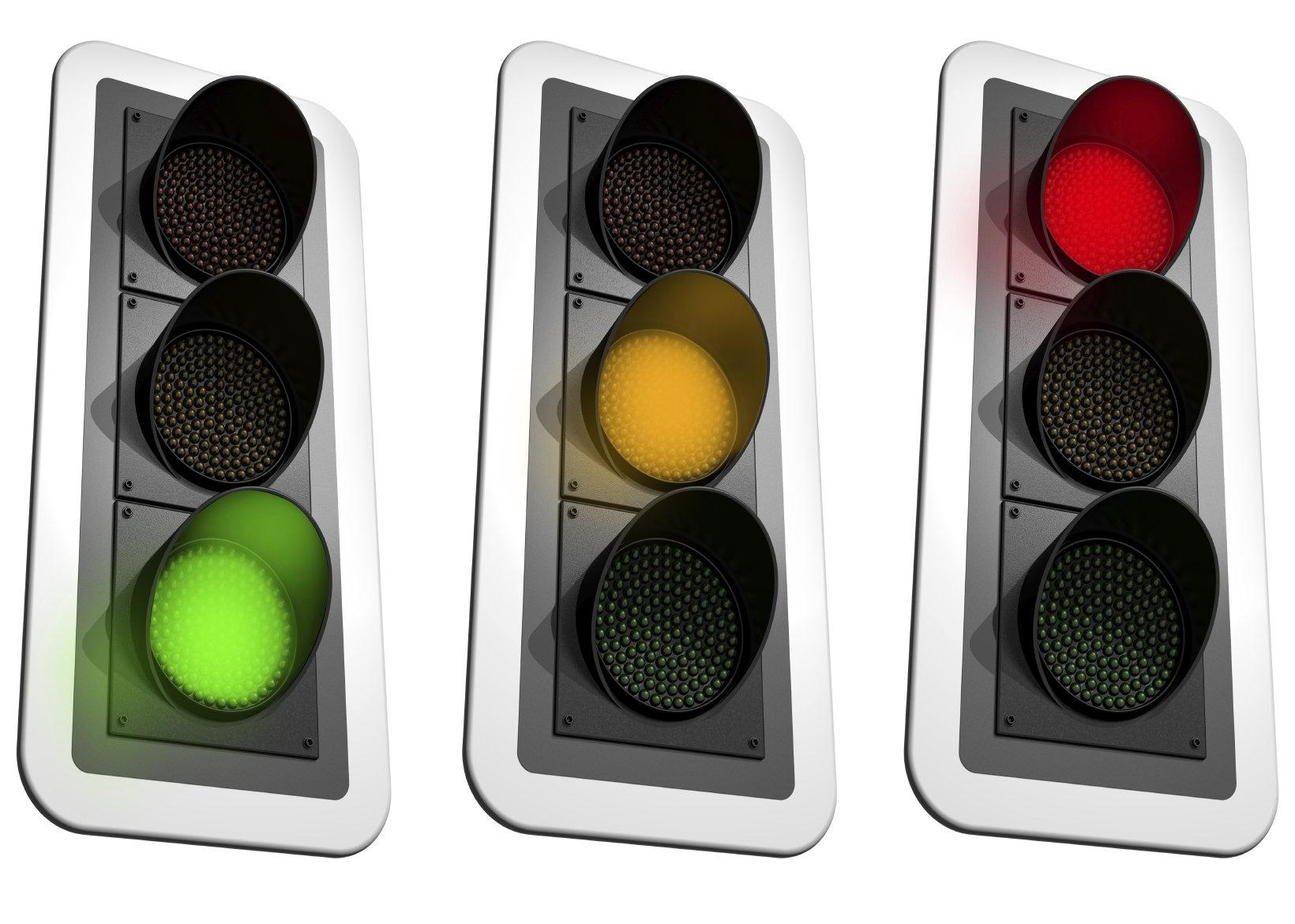Traffic light green: (24, 45, 371, 829)
